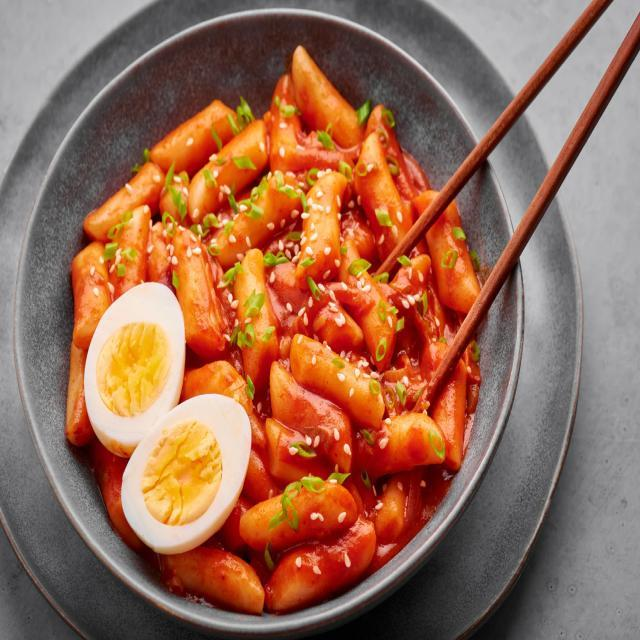banh gao: (247, 497, 361, 596), (256, 368, 349, 480), (292, 48, 364, 153), (192, 116, 266, 211), (357, 143, 412, 264), (232, 253, 284, 374), (166, 545, 259, 612), (85, 158, 162, 231), (152, 104, 244, 164), (419, 198, 473, 300), (226, 178, 307, 242), (351, 411, 443, 467), (177, 226, 217, 351), (301, 180, 343, 272), (300, 295, 363, 353), (435, 362, 464, 478), (69, 246, 103, 334), (111, 204, 144, 283), (94, 446, 124, 529), (66, 339, 88, 440), (366, 480, 400, 536)
banh gao cay tokbokki: (63, 45, 482, 612)
cac loai rau cu: (227, 175, 271, 216), (234, 292, 262, 349), (276, 171, 312, 208), (274, 483, 300, 529), (164, 163, 186, 213), (217, 263, 243, 290), (286, 437, 317, 458), (191, 213, 218, 236), (427, 427, 444, 463), (383, 382, 407, 406), (302, 474, 327, 495), (262, 248, 291, 266), (348, 258, 368, 283), (236, 97, 253, 123), (375, 206, 393, 230), (278, 98, 300, 116), (307, 274, 322, 300), (161, 213, 176, 238), (320, 126, 336, 148), (392, 304, 405, 330), (263, 542, 275, 570), (339, 159, 354, 181), (135, 150, 149, 173), (386, 153, 400, 175), (362, 470, 375, 493), (467, 340, 483, 358), (358, 103, 370, 127), (212, 125, 223, 151), (228, 114, 241, 136), (442, 250, 457, 269), (327, 473, 348, 486), (202, 169, 217, 187), (245, 377, 256, 400), (108, 225, 126, 239), (172, 269, 182, 294), (103, 243, 118, 259), (454, 227, 466, 245), (382, 109, 396, 124), (360, 428, 372, 444), (419, 292, 427, 316), (377, 340, 387, 359), (302, 258, 316, 271), (368, 378, 379, 394), (123, 246, 135, 260), (330, 357, 345, 368), (471, 252, 480, 270), (378, 303, 386, 323), (290, 228, 302, 241), (371, 273, 393, 280), (378, 130, 389, 144), (237, 156, 254, 165), (209, 243, 221, 255), (356, 164, 366, 177), (116, 262, 124, 277), (435, 335, 448, 343), (398, 258, 409, 267), (123, 210, 130, 223)
trung: (119, 393, 252, 548), (86, 283, 185, 452)
